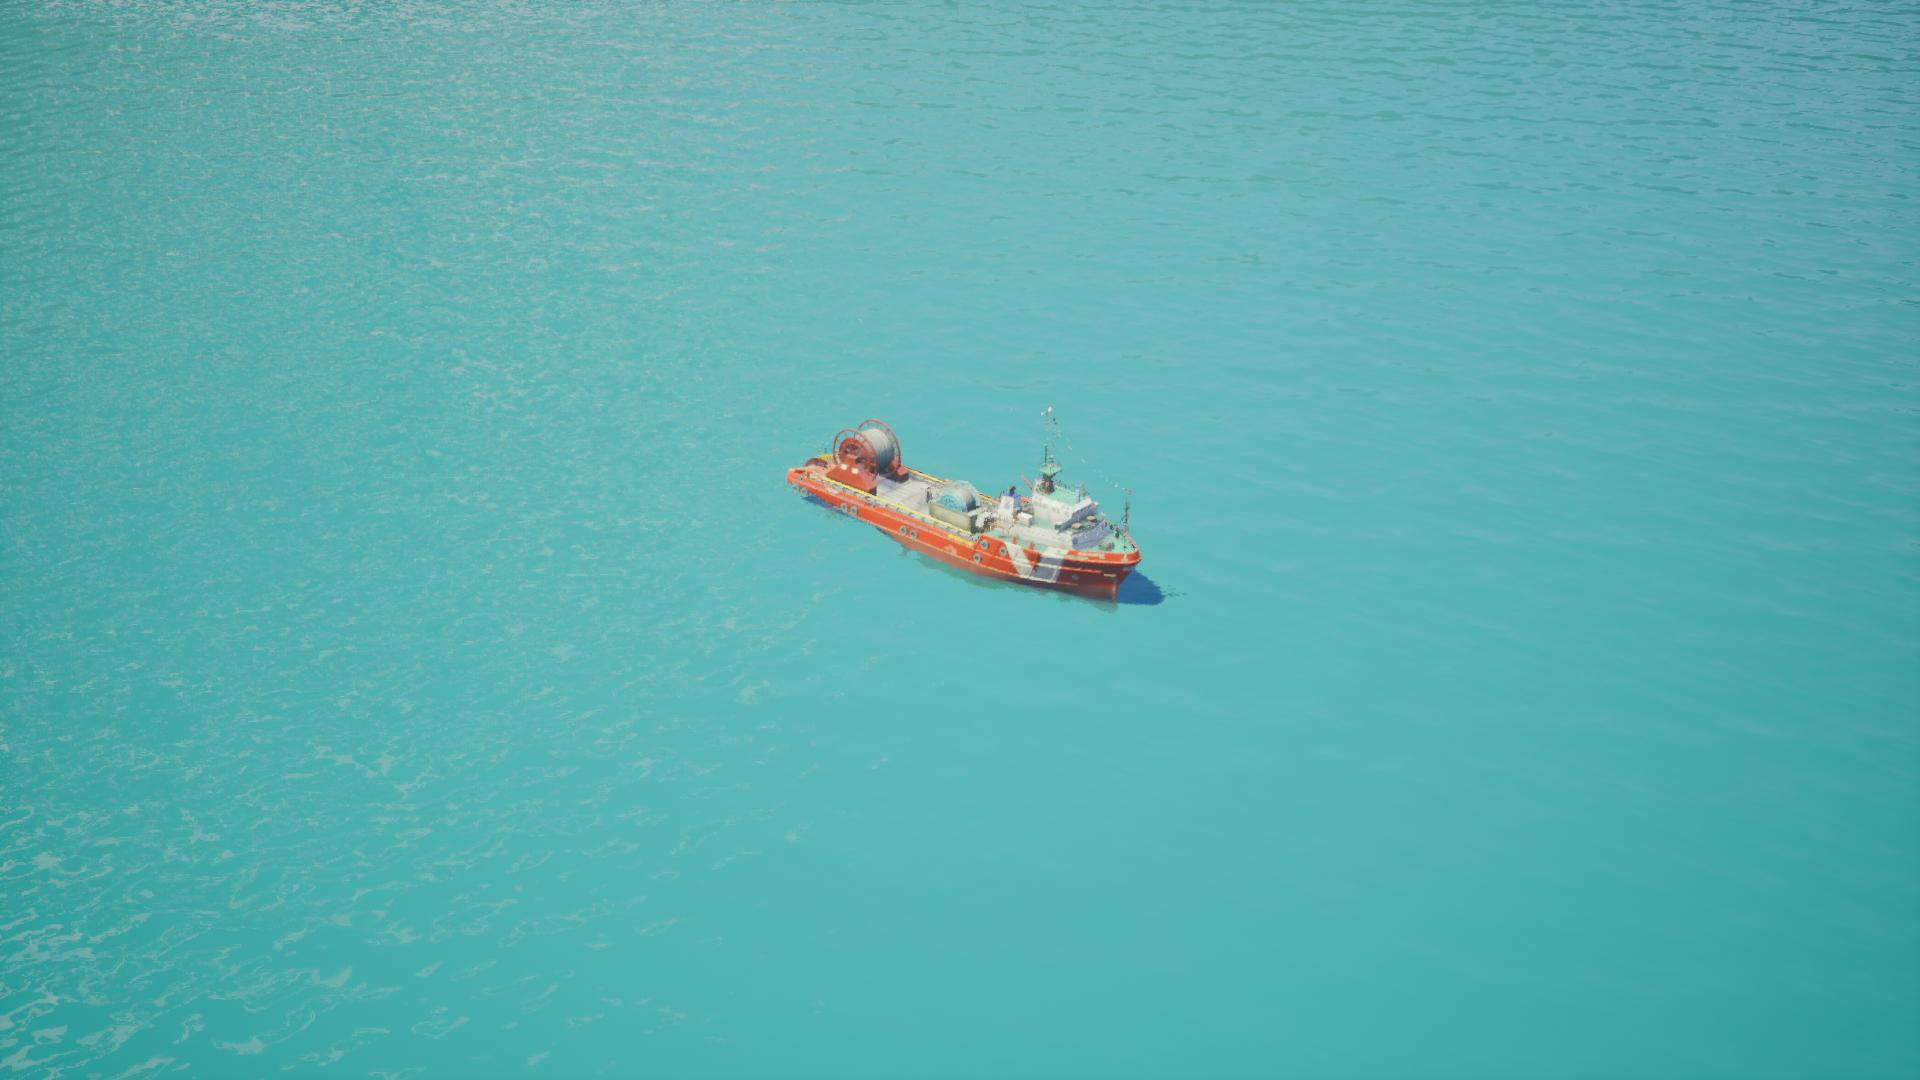Tug Boat: (725, 352, 1226, 658)
